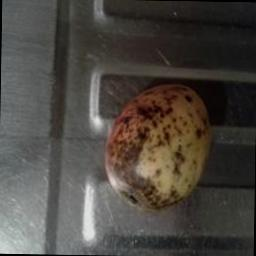Mango Rotten: (100, 61, 215, 226)
